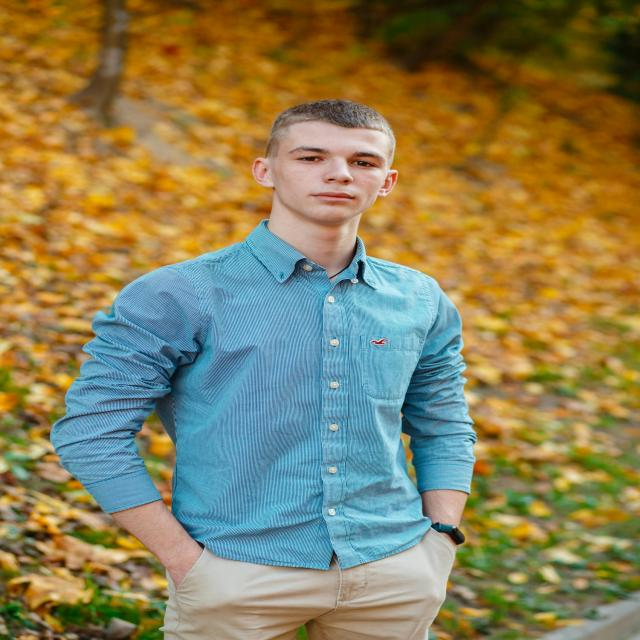human: (45, 90, 487, 640)
